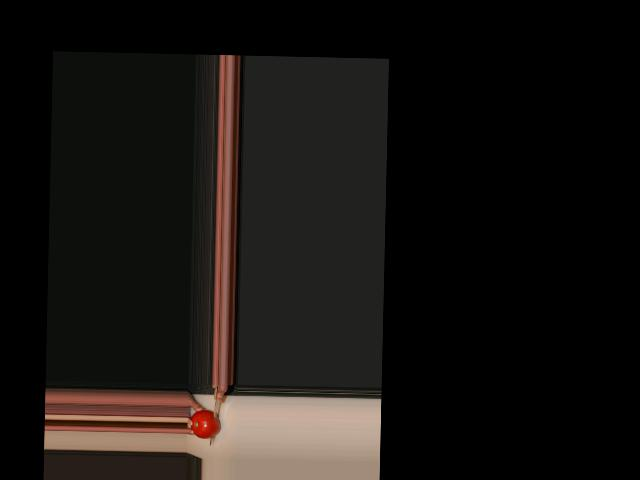tomato: (190, 410, 220, 439)
